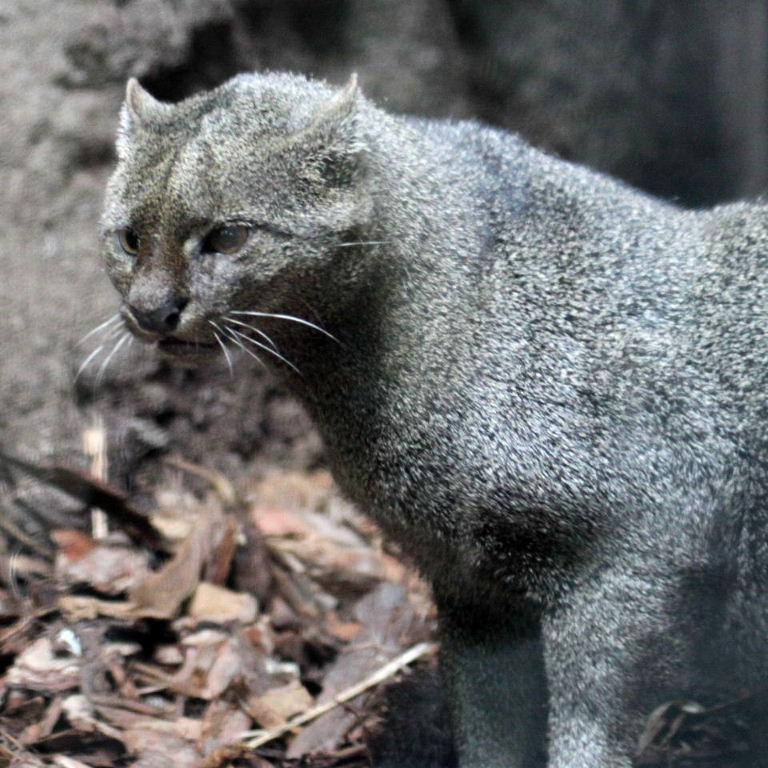Jaguarundi: (95, 59, 716, 683)
